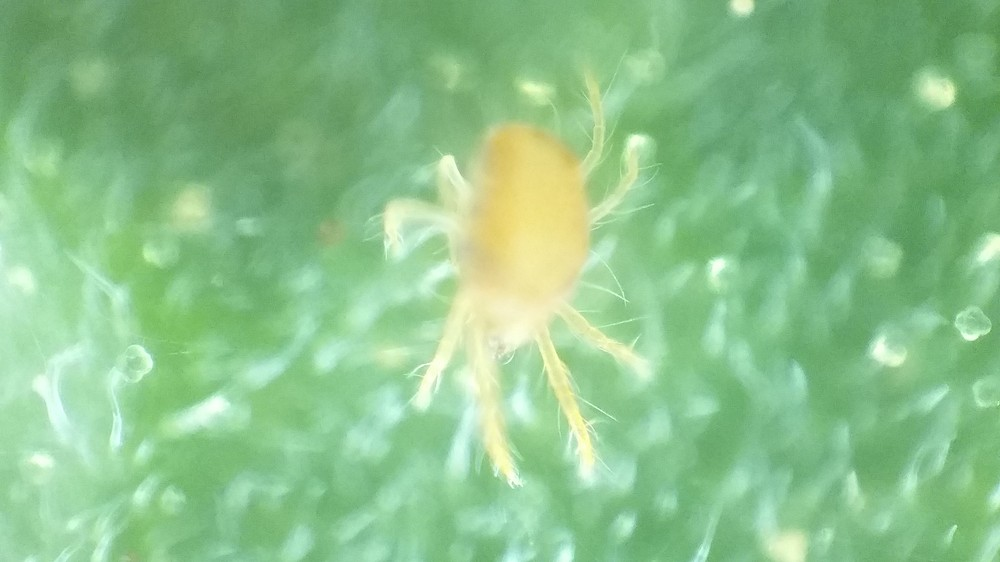Aracnido Rojo: (362, 74, 672, 487)
